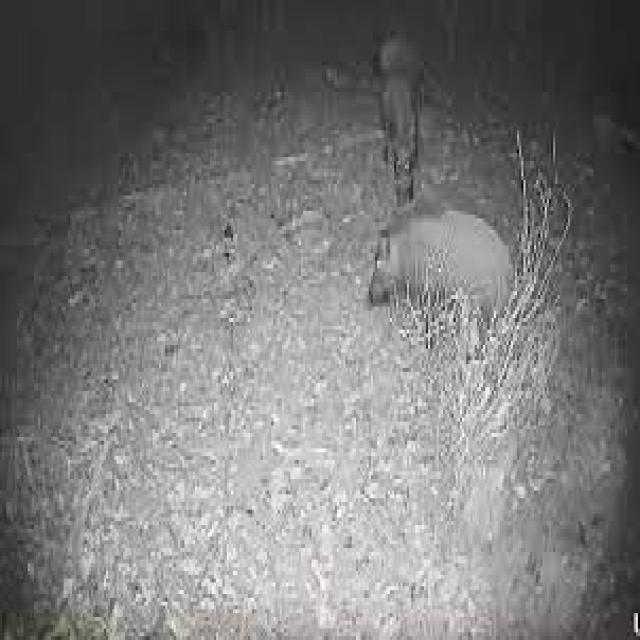boar: (340, 178, 562, 406)
